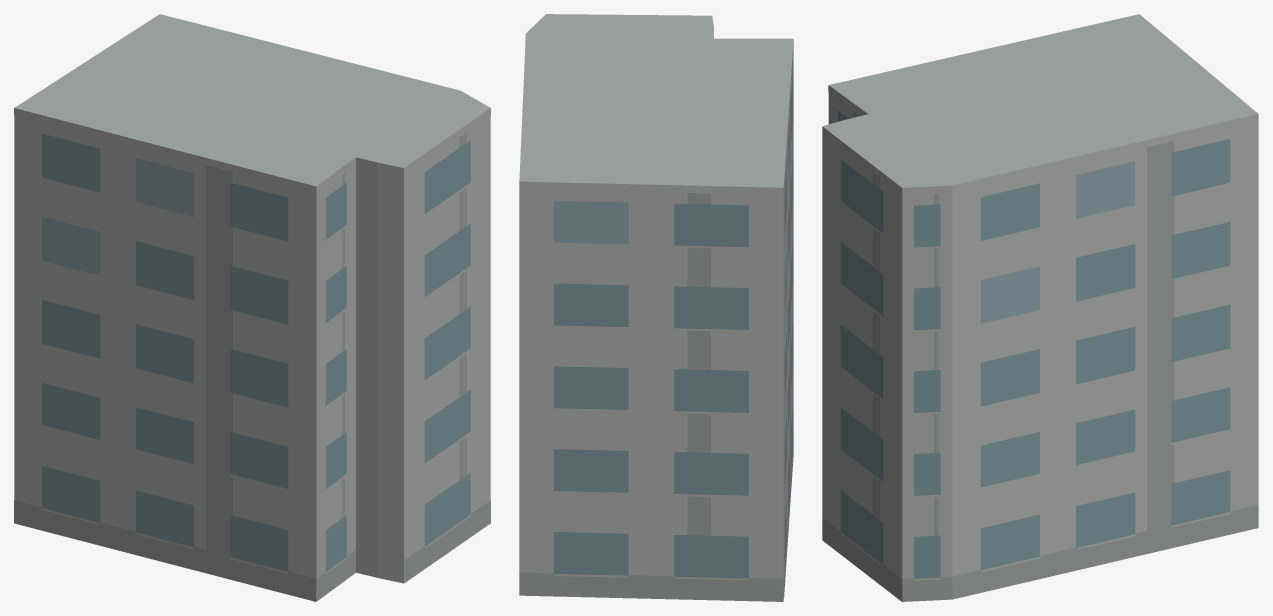
Rendered from survey-upis-32792435.glb.
3 views of the same model, side by side, from view 1: azimuth 30°, elevation 25°; view 2: azimuth 150°, elevation 25°; view 3: azimuth 270°, elevation 25° (orthographic).
Parts seen in each view (by area): view 1: survey-upis-32792435.tmp; view 2: survey-upis-32792435.tmp; view 3: survey-upis-32792435.tmp.
Boxes of the visible parts, left/top/right/bottom form: survey-upis-32792435.tmp: left=14, top=14, right=490, bottom=601; survey-upis-32792435.tmp: left=519, top=14, right=793, bottom=601; survey-upis-32792435.tmp: left=822, top=14, right=1258, bottom=601.
Bounding box in the file's own units: 12.35 × 13.7 × 13.09.
